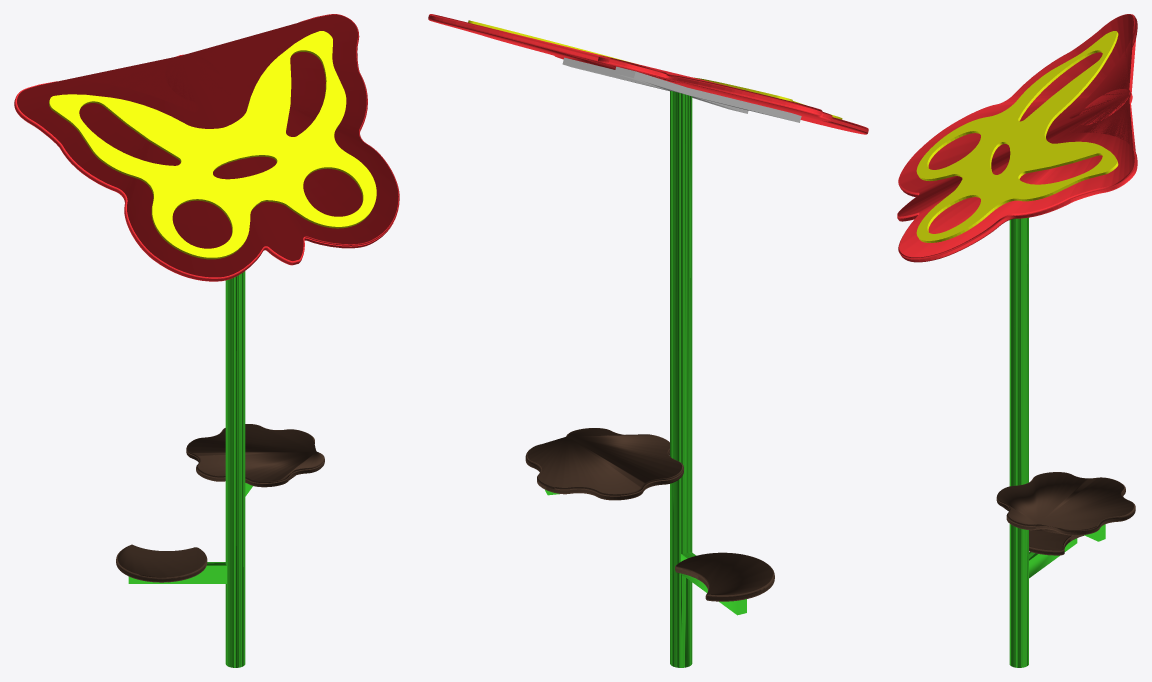
3 views of the same model, side by side, from view 1: azimuth 30°, elevation 25°; view 2: azimuth 150°, elevation 25°; view 3: azimuth 270°, elevation 25° (orthographic). The views are drawn at different scales.
Parts seen in each view (by area): view 1: D_77; view 2: D_77; view 3: D_77.
Boxes of the visible parts, x1,y1,x2,y2 form: D_77: (14,14,399,667); D_77: (428,14,868,667); D_77: (897,14,1137,667).
Size of the model in its own units: 120 by 193 by 73.51.
